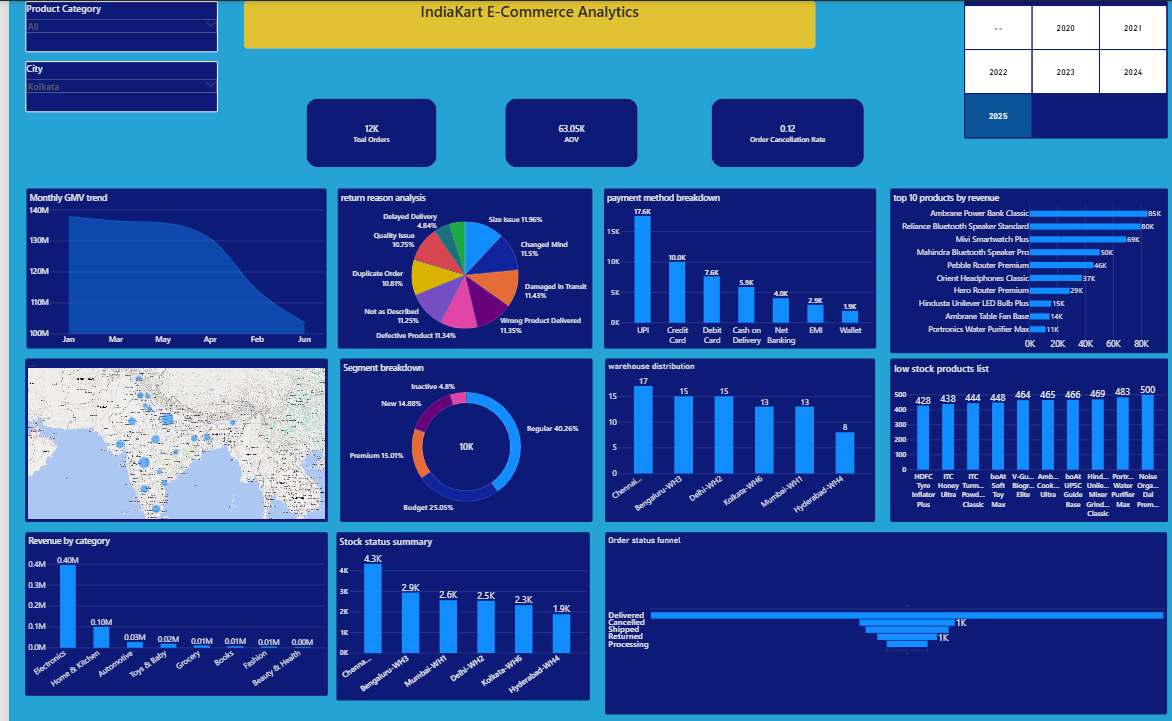

The dashboard page shown, as its layout file describes it:
{"tool":"powerbi","page":{"name":"Page 1","canvas":[9999,6280],"ordinal":0},"visuals":[{"type":"lineChart","title":"Monthly GMV trend","fields":{"Category":["DateTable.MONTH NAME"],"Y":["orders.Gross Merchandise Value"]},"box":[150,1610,2568.5,1369.9],"z":0},{"type":"cardVisual","fields":{"Data":["orders.Toal Orders"]},"box":[2550,830,1113,588.6],"z":1000},{"type":"cardVisual","fields":{"Data":["orders.AOV"]},"box":[4248.8,834.8,1134.4,588.6],"z":2000},{"type":"cardVisual","fields":{"Data":["orders.Order Cancellation Rate"]},"box":[6010,830,1305.7,588.6],"z":3000},{"type":"columnChart","title":"Revenue by category","fields":{"Category":["products.category"],"Y":["Sum(products.cost_price)"]},"box":[140,4550,2590,1400],"z":4000},{"type":"clusteredBarChart","title":"top 10 products by revenue","fields":{"Category":["products.product_name"],"Y":["Sum(products.cost_price)"]},"box":[7540,1610,2380,1410],"z":5000},{"type":"donutChart","title":"Segment breakdown","fields":{"Category":["customers.segment"],"Y":["customers.Total Customers"]},"box":[2840,3060,2160,1400],"z":6000},{"type":"map","fields":{"Category":["customers.state"],"Size":["customers.Total Customers"]},"box":[140,3060,2590,1400],"z":7000},{"type":"funnel","title":"Order status funnel","fields":{"Category":["orders.status"],"Y":["orders.Toal Orders"]},"box":[5110,4550,4810,1560],"z":8000},{"type":"columnChart","title":"payment method breakdown","fields":{"Category":["payments.payment_method"],"Y":["CountNonNull(payments.order_id)"]},"box":[5090,1610,2330,1370],"z":9000},{"type":"pieChart","title":"return reason analysis","fields":{"Category":["returns.reason"],"Y":["CountNonNull(returns.return_id)"]},"box":[2820,1610,2180,1370],"z":10000},{"type":"columnChart","title":"Stock status summary","fields":{"Category":["inventory.warehouse_location"],"Y":["inventory.Low Stocks"]},"box":[2800,4550,2168.5,1439.7],"z":11000},{"type":"columnChart","title":"low stock products list","fields":{"Category":["products.product_name"],"Y":["inventory.Low Stocks"]},"box":[7540,3060,2380,1400],"z":12000},{"type":"clusteredColumnChart","title":"warehouse distribution","fields":{"Category":["inventory.warehouse_location"],"Y":["CountNonNull(inventory.inventory_id)"]},"box":[5110,3060,2310,1400],"z":13000},{"type":"textbox","box":[2012,0,4890.9,406.7],"z":14000},{"type":"advancedSlicerVisual","fields":{"Values":["DateTable.YEAR"]},"box":[8176.5,0,1744.5,1177.2],"z":15000},{"type":"slicer","title":"Product Category","fields":{"Values":["products.category"]},"box":[140,0,1650,440],"z":16000},{"type":"slicer","title":"City","fields":{"Values":["suppliers.city"]},"box":[140,510,1650,440],"z":17000}]}

Visuals, with their boxes in screenshot pixels (x1, y1, x2, y2), scaled from the page's 9999x6280 canvas onto the 1172x721 screenshot:
"Monthly GMV trend" lineChart: bbox(18, 185, 319, 342)
cardVisual - orders.Toal Orders: bbox(299, 95, 429, 163)
cardVisual - orders.AOV: bbox(498, 96, 631, 163)
cardVisual - orders.Order Cancellation Rate: bbox(704, 95, 857, 163)
"Revenue by category" columnChart: bbox(16, 522, 320, 683)
"top 10 products by revenue" clusteredBarChart: bbox(884, 185, 1163, 347)
"Segment breakdown" donutChart: bbox(333, 351, 586, 512)
map - customers.state x customers.Total Customers: bbox(16, 351, 320, 512)
"Order status funnel" funnel: bbox(599, 522, 1163, 701)
"payment method breakdown" columnChart: bbox(597, 185, 870, 342)
"return reason analysis" pieChart: bbox(331, 185, 586, 342)
"Stock status summary" columnChart: bbox(328, 522, 582, 688)
"low stock products list" columnChart: bbox(884, 351, 1163, 512)
"warehouse distribution" clusteredColumnChart: bbox(599, 351, 870, 512)
textbox: bbox(236, 0, 809, 47)
advancedSlicerVisual - DateTable.YEAR: bbox(958, 0, 1163, 135)
"Product Category" slicer: bbox(16, 0, 210, 51)
"City" slicer: bbox(16, 59, 210, 109)
